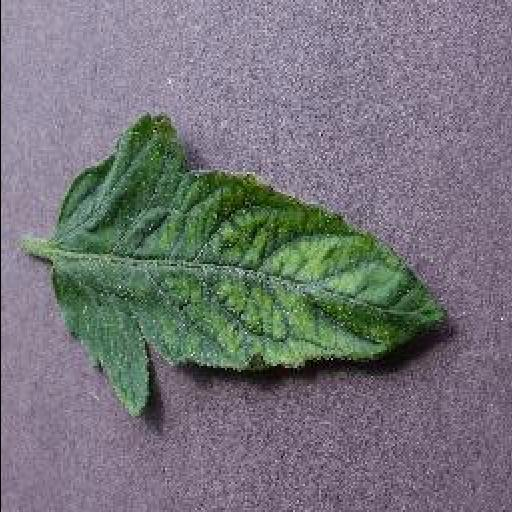disease_tomato: (50, 111, 450, 429)
